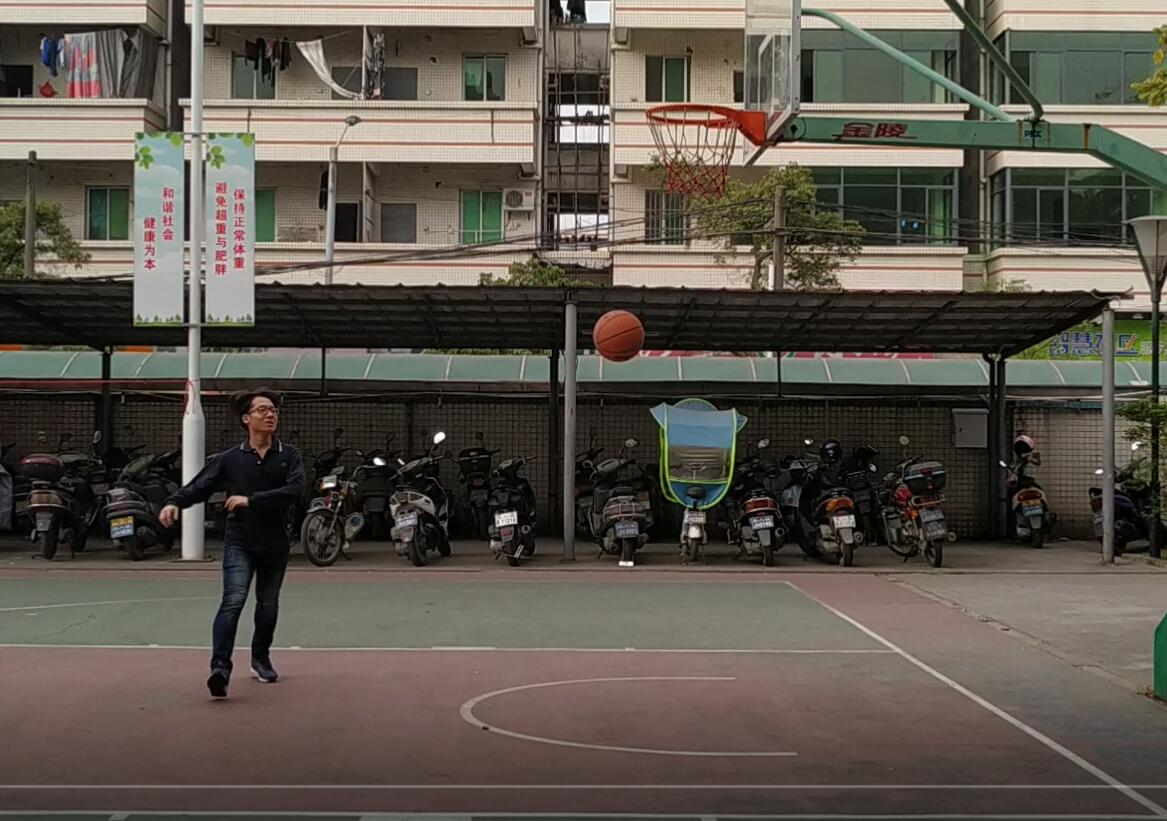basketball: (587, 308, 648, 364)
